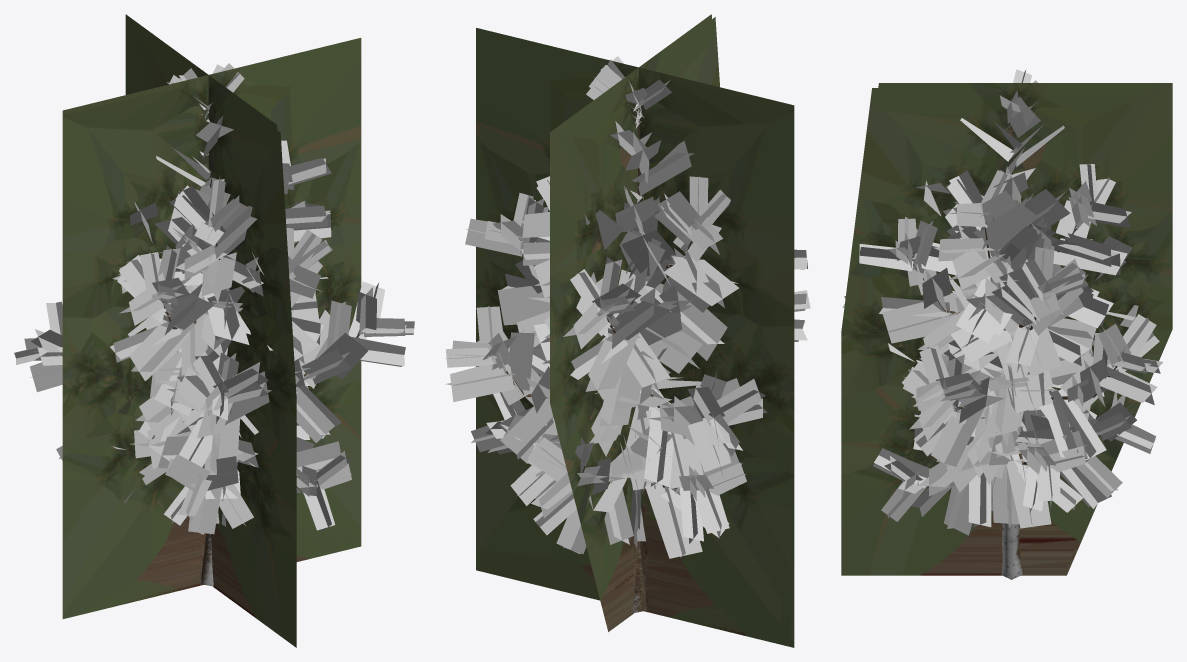
File: Spruce_bush2.fbx
3 renders of one model, left to right at view 1: azimuth 30°, elevation 25°; view 2: azimuth 150°, elevation 25°; view 3: azimuth 270°, elevation 25°, orthographic. The views are drawn at different scales.
Parts seen in each view (by area): view 1: Billboard, LOD0; view 2: Billboard, LOD0; view 3: LOD0, Billboard.
Boxes of the visible parts, <box> form: Billboard: <box>62,14,361,647</box>; LOD0: <box>14,63,414,586</box>; Billboard: <box>476,14,794,647</box>; LOD0: <box>445,56,810,613</box>; LOD0: <box>842,69,1162,579</box>; Billboard: <box>841,83,1172,575</box>.
Size of what is drawn, in the model's own units: 150 by 237 by 143.
